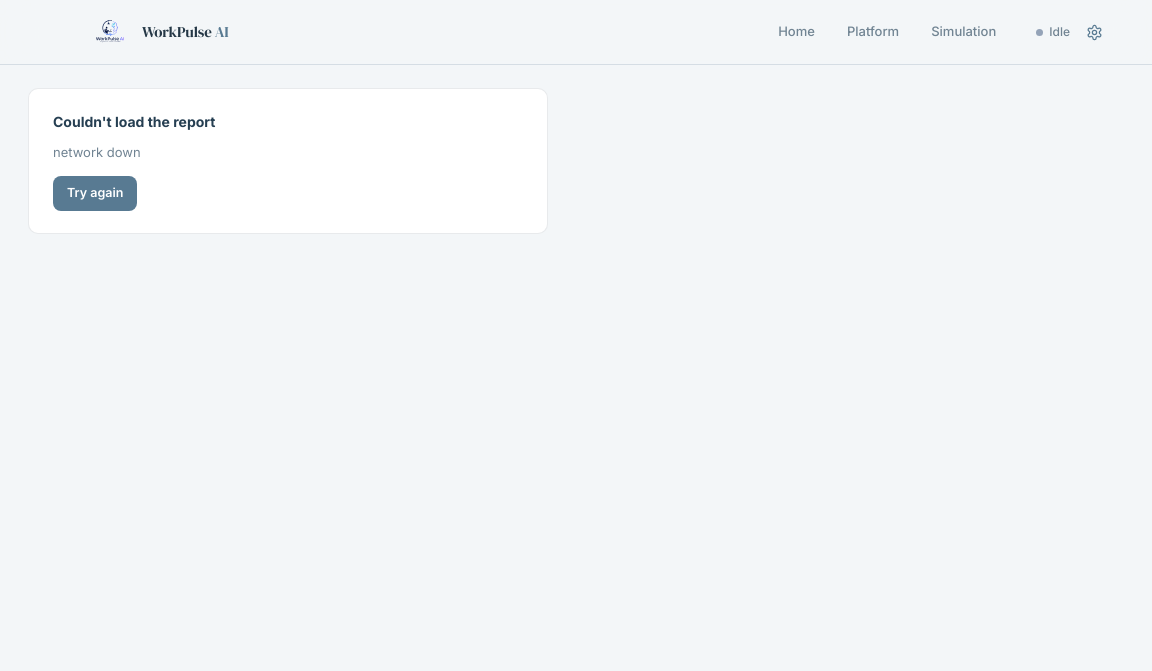
Scenario: SessionReportPage › shows a generic error state with retry on a network failure, and retry re-fetches
Check: the text "Couldn't load the report" is shown, box [53,113,215,130]
Click the button "Try again" at (95, 194), box [53,176,137,211]
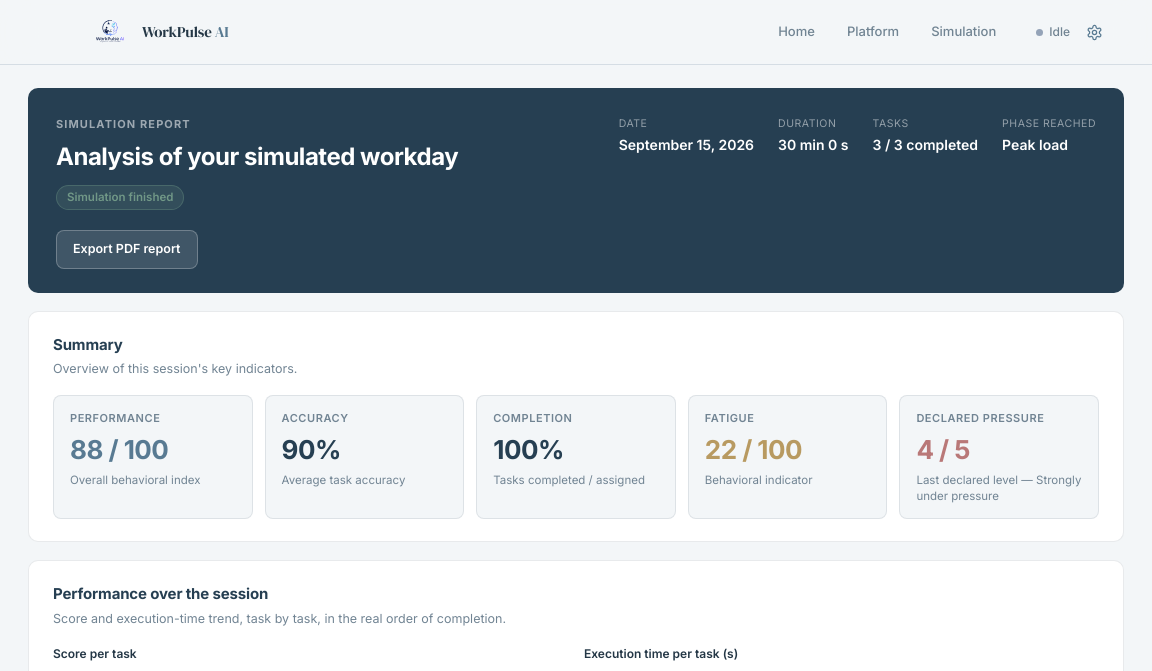
Check: the heading "Summary" is shown, box [53,334,123,354]
